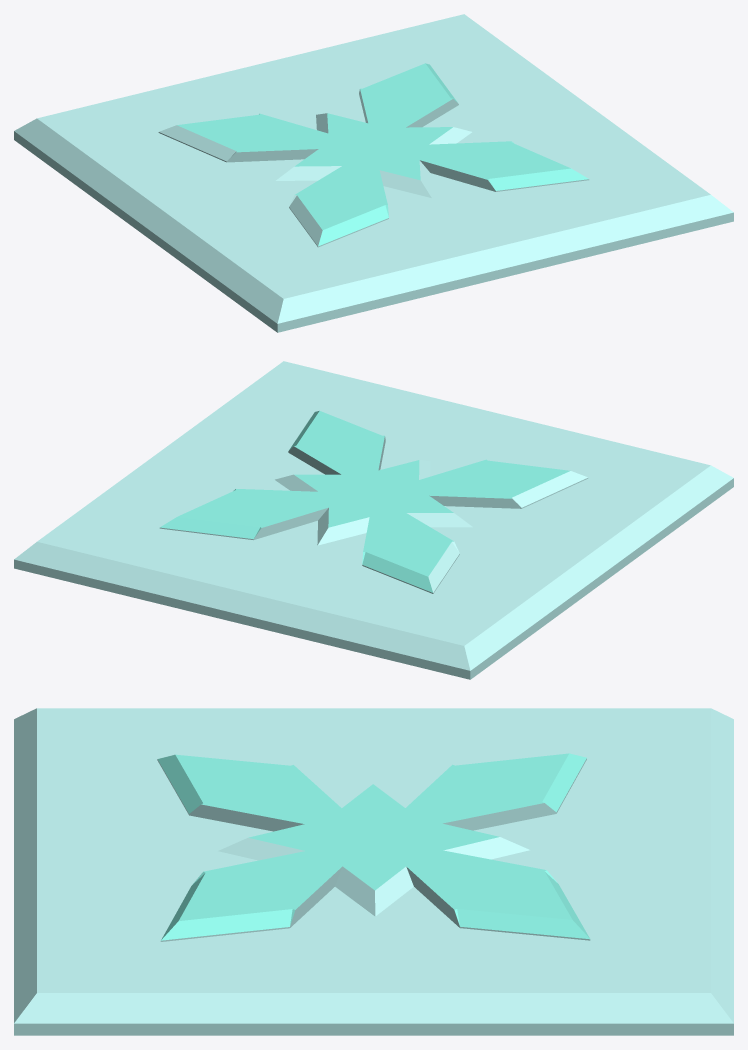
Rendered from SlowTrap.fbx.
The picture shows the model from 3 angles, top to bottom: view 1: azimuth 30°, elevation 25°; view 2: azimuth 150°, elevation 25°; view 3: azimuth 270°, elevation 25°; orthographic projection. The views are drawn at different scales.
Parts seen in each view (by area): view 1: Plane; view 2: Plane; view 3: Plane.
Part boxes in pixels (x1,y1,x2,y2): Plane: (14, 14, 733, 332); Plane: (14, 361, 733, 679); Plane: (14, 708, 733, 1035).
Size of the model in its own units: 99.98 by 7.12 by 99.98.
